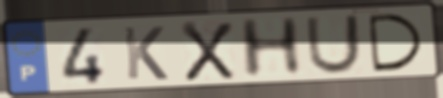4: (59, 24, 108, 87)
D: (364, 12, 428, 74)
H: (236, 15, 306, 80)
K: (120, 25, 171, 82)
U: (303, 13, 363, 76)
X: (178, 20, 237, 84)
